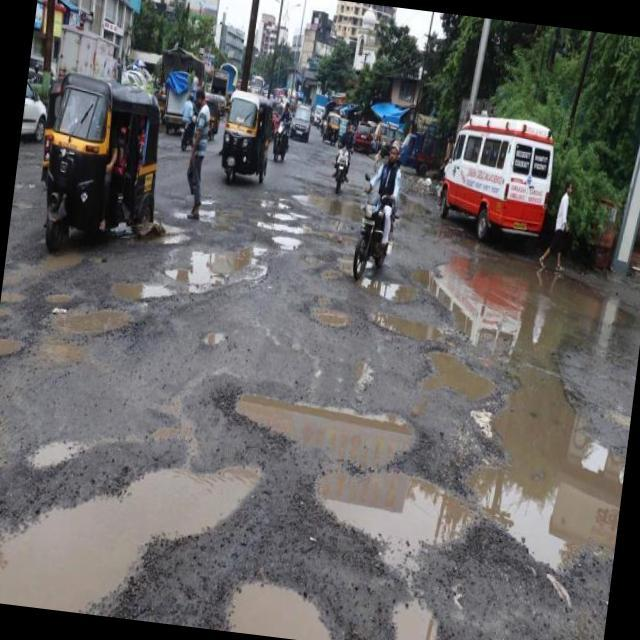Pothole: (414, 256, 625, 567), (237, 392, 472, 567), (0, 465, 261, 609), (112, 245, 266, 302), (230, 582, 330, 640), (423, 350, 493, 401), (3, 249, 82, 284), (274, 213, 350, 248), (370, 309, 444, 342), (48, 307, 130, 336), (393, 601, 436, 640), (359, 275, 413, 301), (297, 195, 357, 218), (311, 302, 350, 326), (0, 337, 20, 357)
